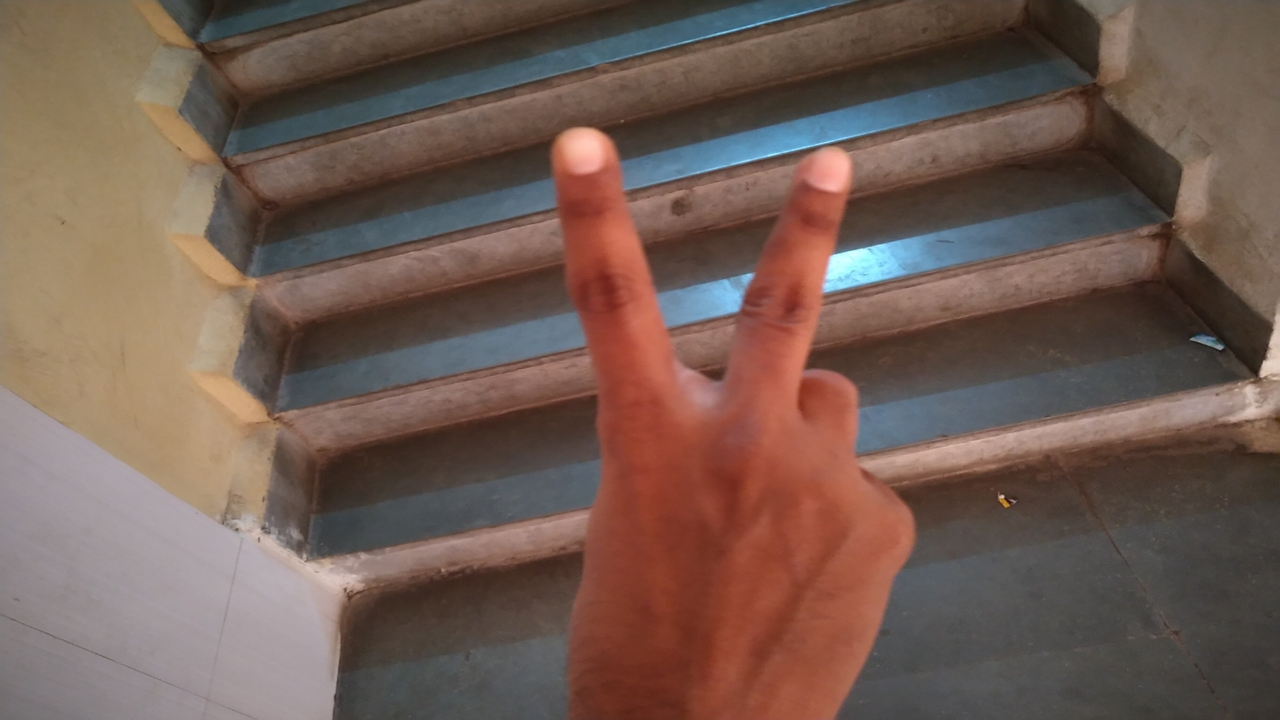fingertip: (546, 118, 622, 190), (788, 140, 862, 204)
